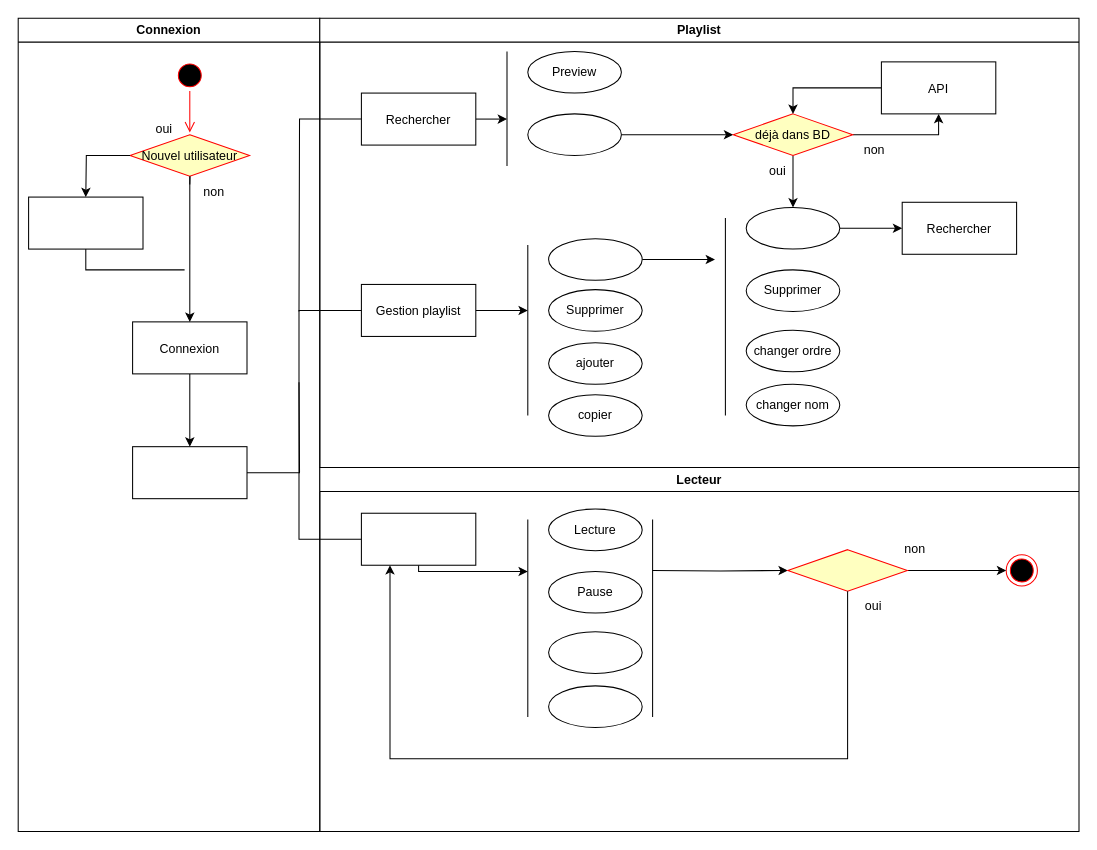
This 1097x850 diagram has some shape labels left out. Each missing label, with the box of its shape:
ajouter son: (745, 206, 840, 249)
Choix menu: (132, 446, 247, 499)
Création Utilisateur: (28, 196, 143, 249)
en boucle: (548, 685, 642, 727)
Jouer playlist: (360, 512, 476, 565)
modifier playlist: (548, 238, 642, 280)
Suivant: (548, 631, 642, 673)
superposer: (787, 549, 907, 591)
telecharger: (527, 113, 621, 155)
